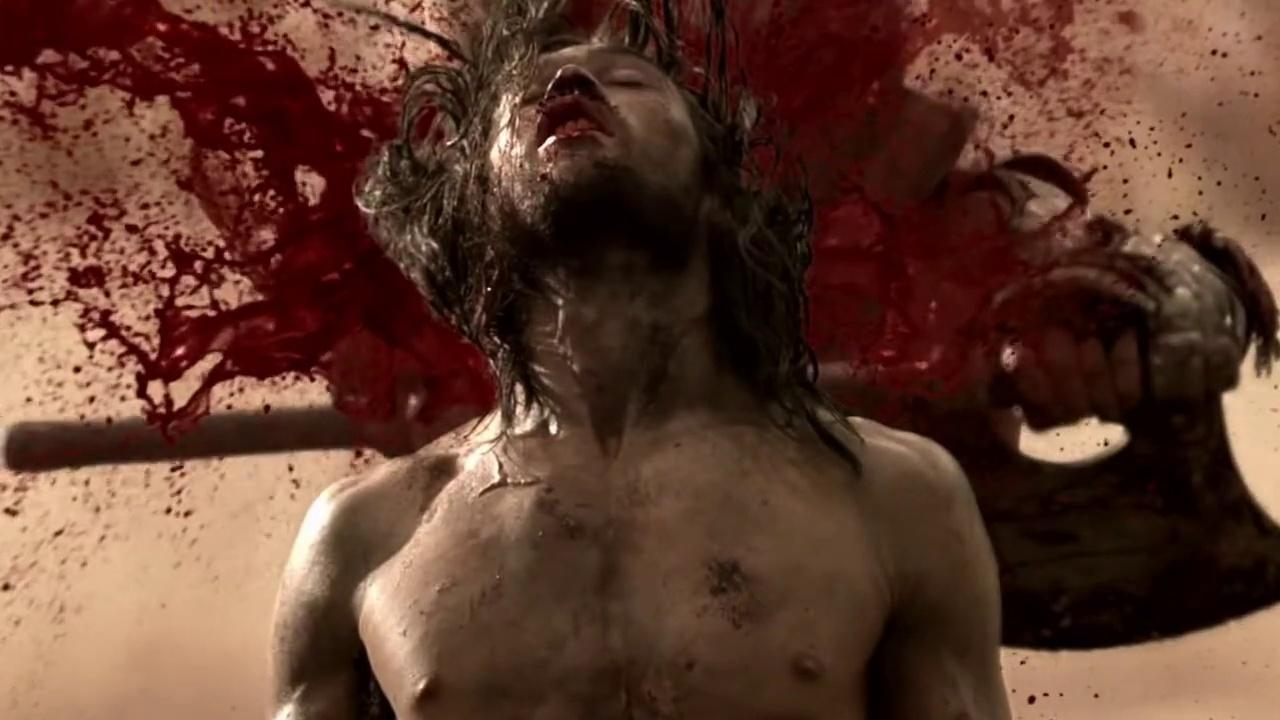Fire: (731, 0, 1280, 428), (0, 0, 492, 437)
